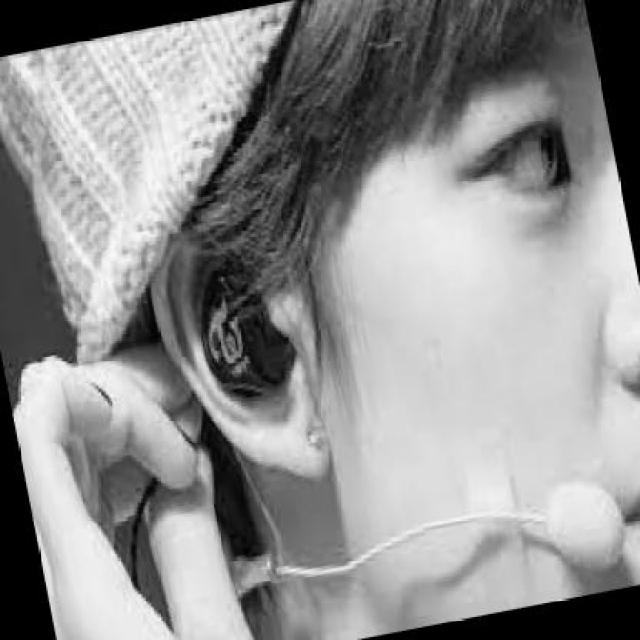earphone: (188, 236, 308, 409)
